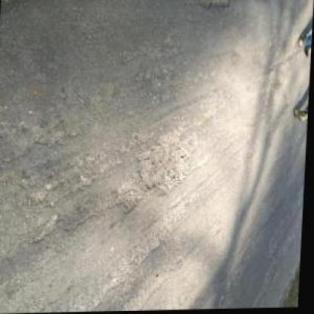Hueco: (138, 129, 192, 197), (119, 183, 144, 215)
